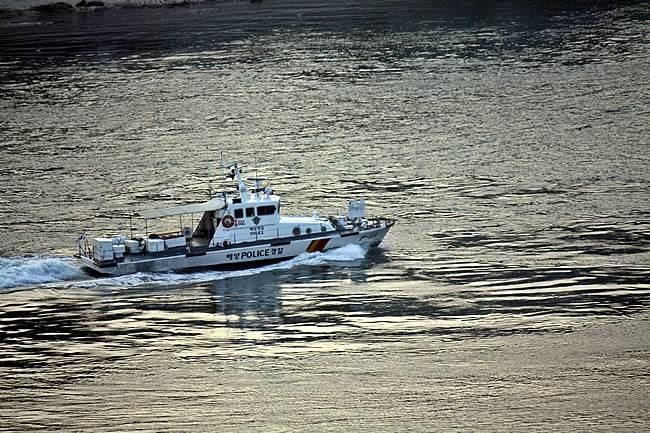otherboat: (74, 160, 397, 281)
